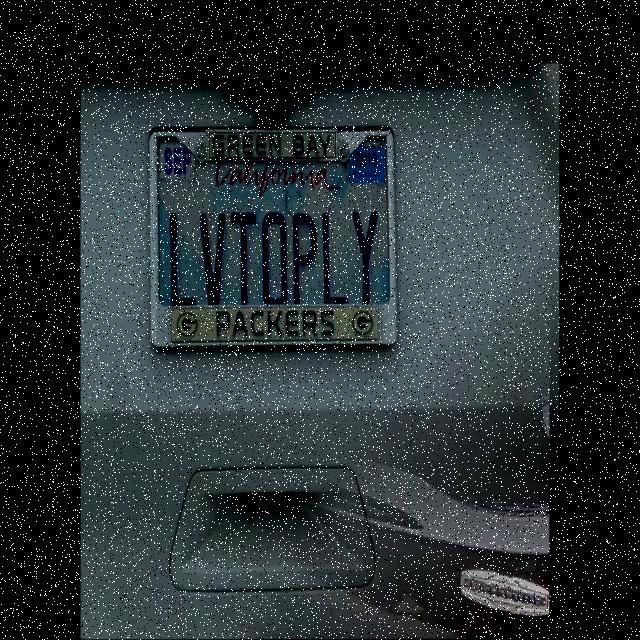licenseplate: (151, 121, 398, 352)
